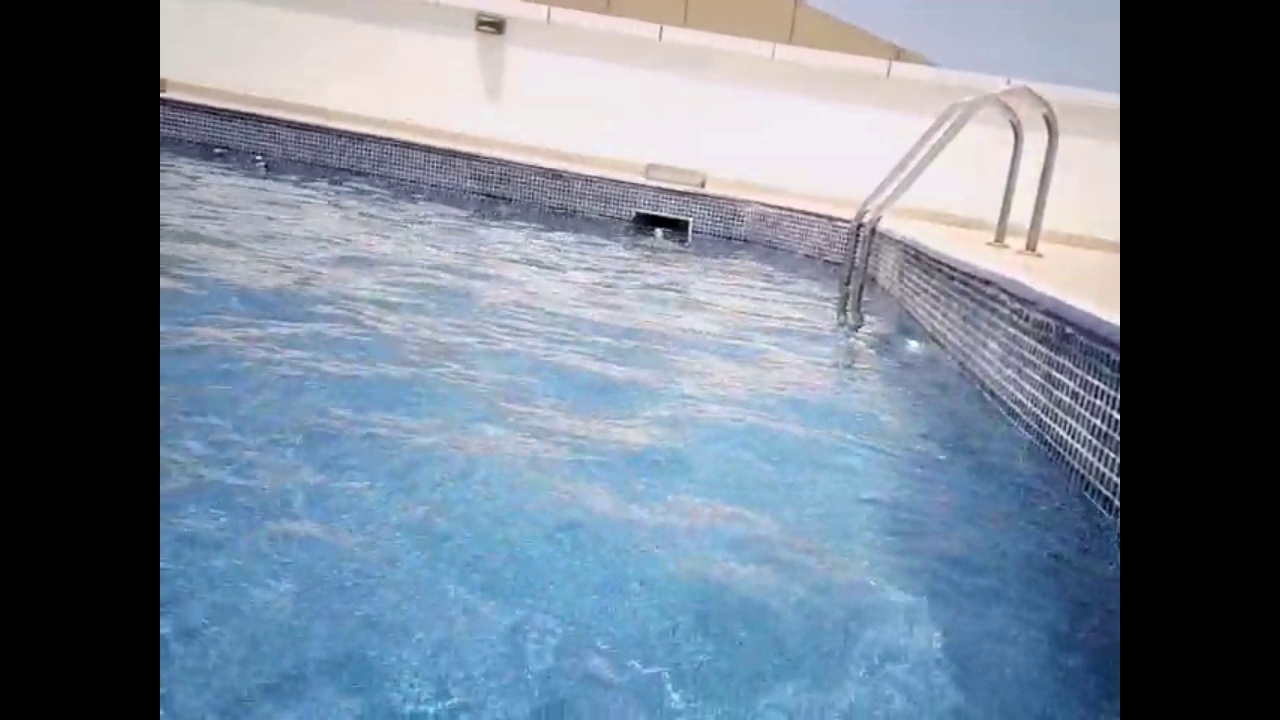debris: (651, 223, 677, 243), (207, 141, 234, 157), (249, 149, 267, 168)
